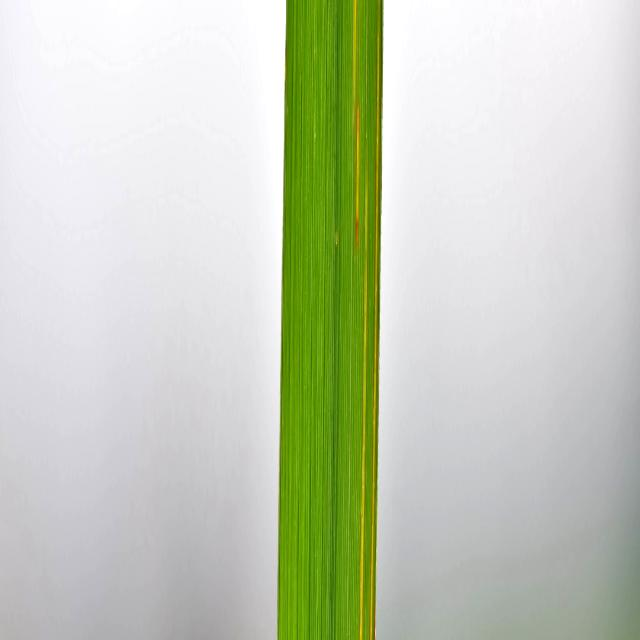BLS: (370, 0, 380, 640), (360, 156, 368, 640), (353, 0, 357, 111), (356, 106, 359, 246), (374, 605, 376, 640)
